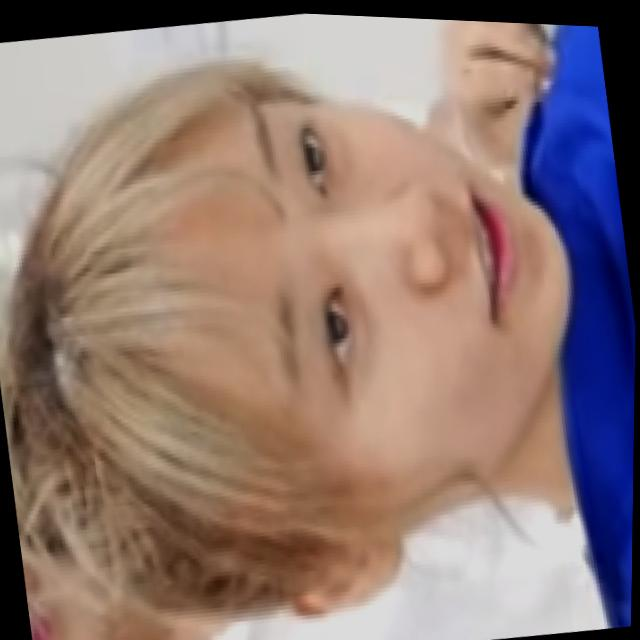face: (161, 39, 605, 514)
